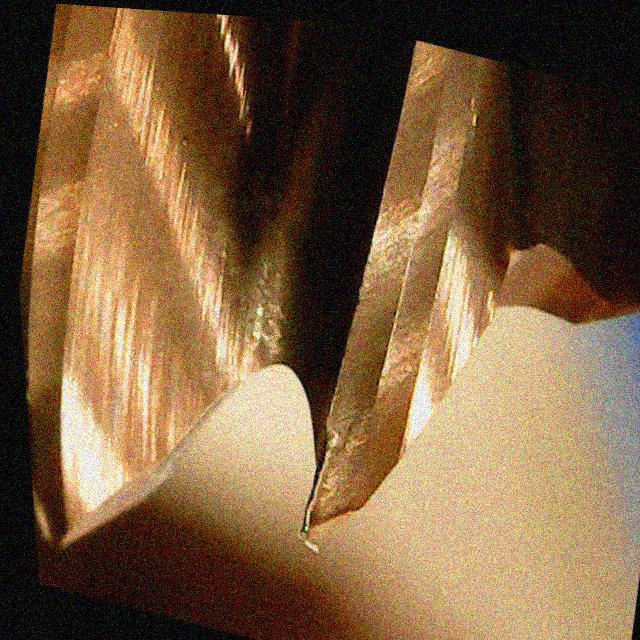Tool-wear-class-1: (263, 218, 476, 580)
